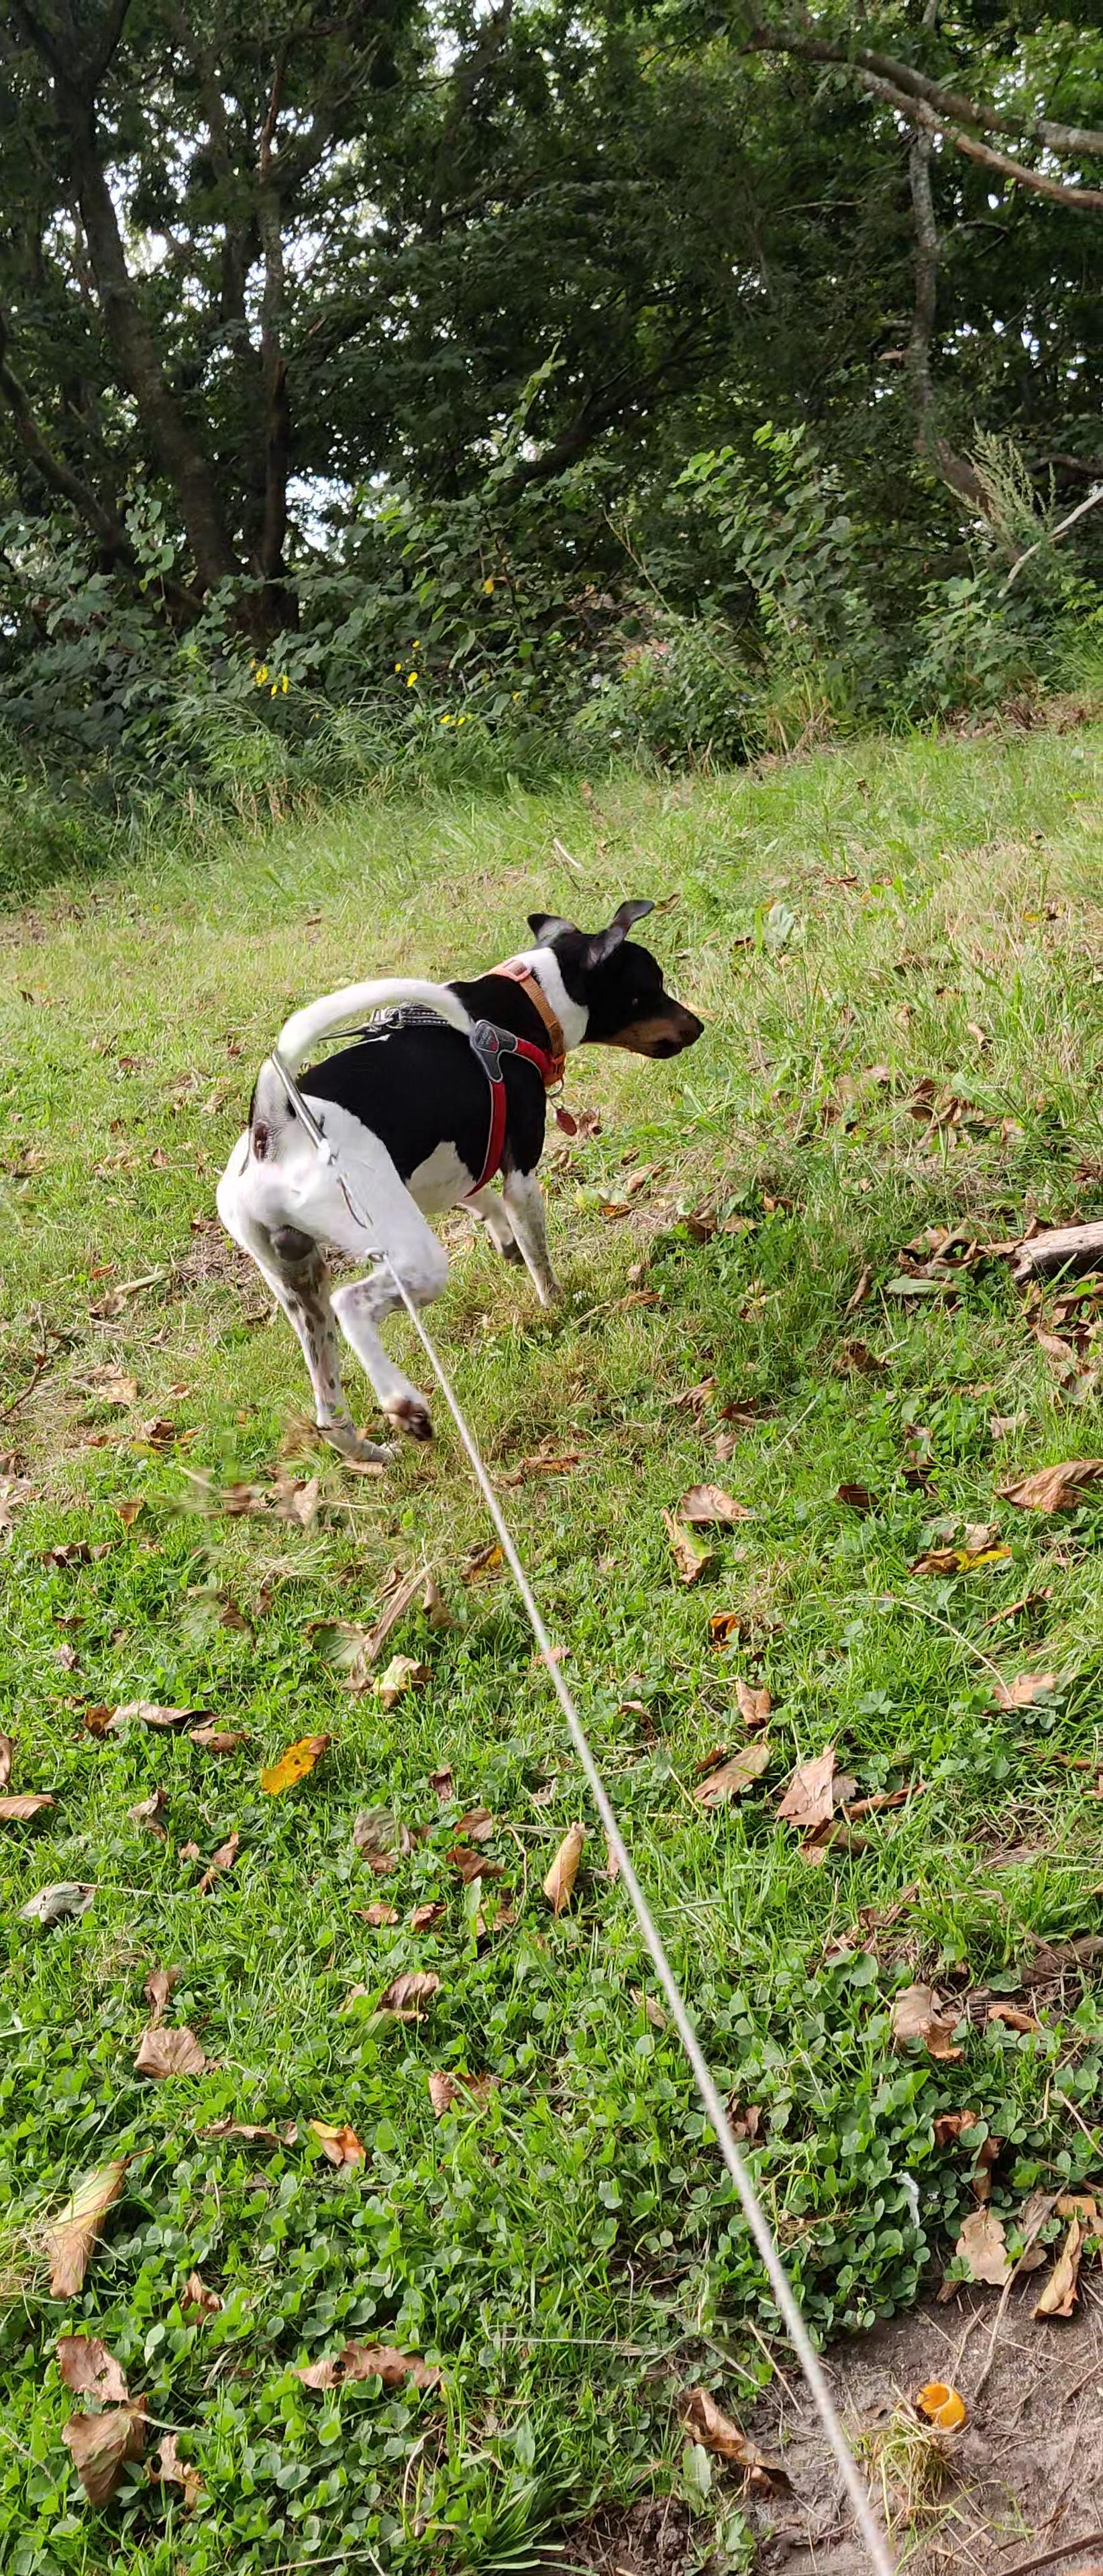Dog: (191, 889, 717, 1457)
